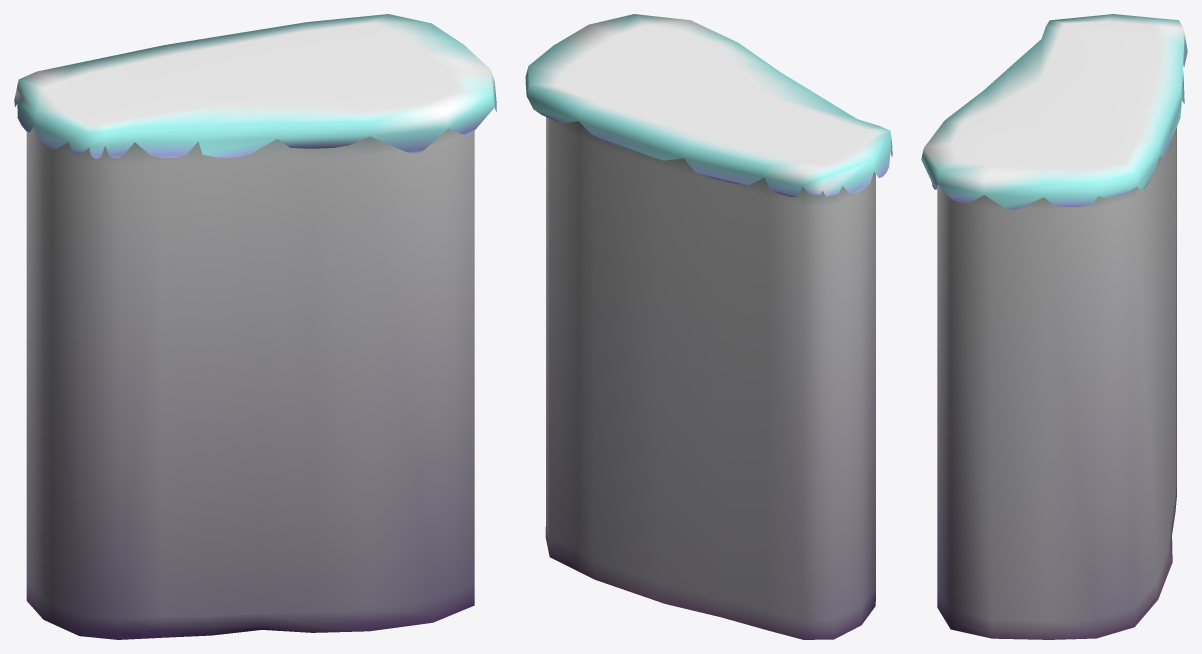
The model's file is Block_01_H3_grass.fbx.
3 renders of one model, left to right at view 1: azimuth 30°, elevation 25°; view 2: azimuth 150°, elevation 25°; view 3: azimuth 270°, elevation 25°, orthographic. The views are drawn at different scales.
Parts seen in each view (by area): view 1: Rock-Base-col.002, GrassLid.002; view 2: Rock-Base-col.002, GrassLid.002; view 3: Rock-Base-col.002, GrassLid.002.
Boxes of the visible parts, x1,y1,x2,y2 form: Rock-Base-col.002: [26, 126, 474, 639]; GrassLid.002: [14, 14, 496, 158]; Rock-Base-col.002: [545, 117, 875, 639]; GrassLid.002: [525, 14, 892, 196]; Rock-Base-col.002: [937, 127, 1176, 639]; GrassLid.002: [921, 14, 1187, 209].
Size of the model in its own units: 809 by 1006 by 522.
